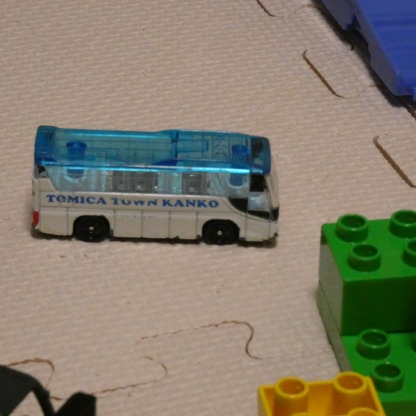car: (34, 120, 280, 253)
